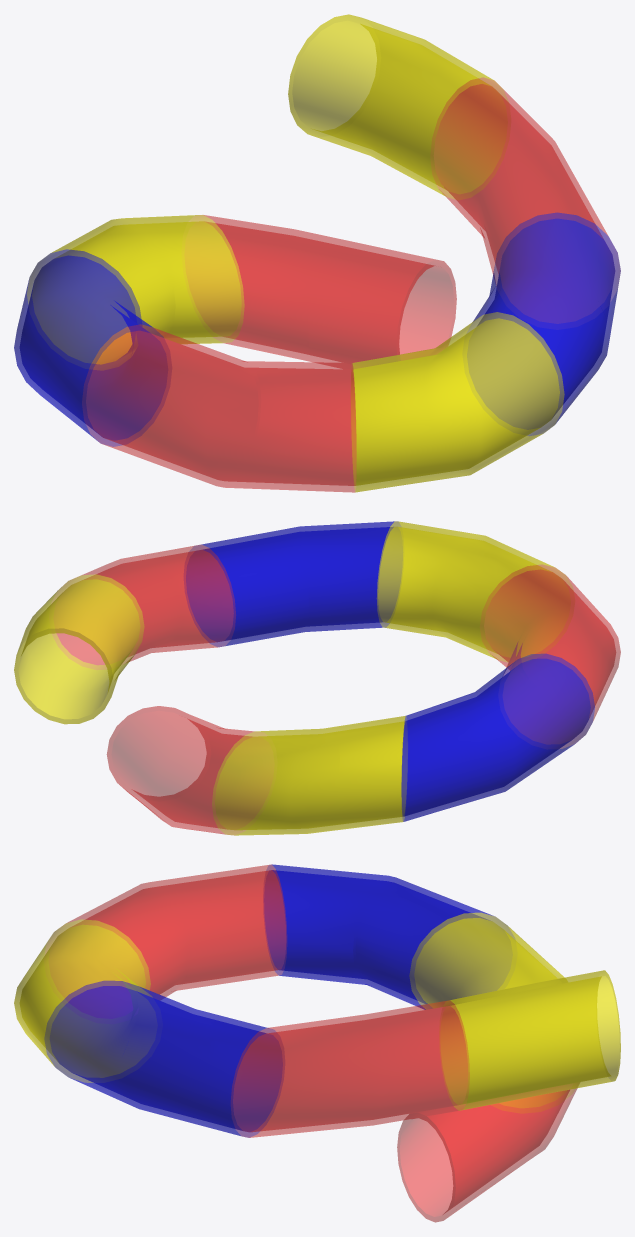
File: New Tuberia.fbx
The picture shows the model from 3 angles, top to bottom: view 1: azimuth 30°, elevation 25°; view 2: azimuth 150°, elevation 25°; view 3: azimuth 270°, elevation 25°; orthographic projection. The views are drawn at different scales.
Parts seen in each view (by area): view 1: pPipe2; view 2: pPipe2; view 3: pPipe2.
Boxes of the visible parts, x1,y1,x2,y2 form: pPipe2: (14, 14, 620, 492); pPipe2: (14, 521, 620, 835); pPipe2: (14, 864, 620, 1222).
Size of the model in its own units: 36.82 by 18.21 by 40.2.
